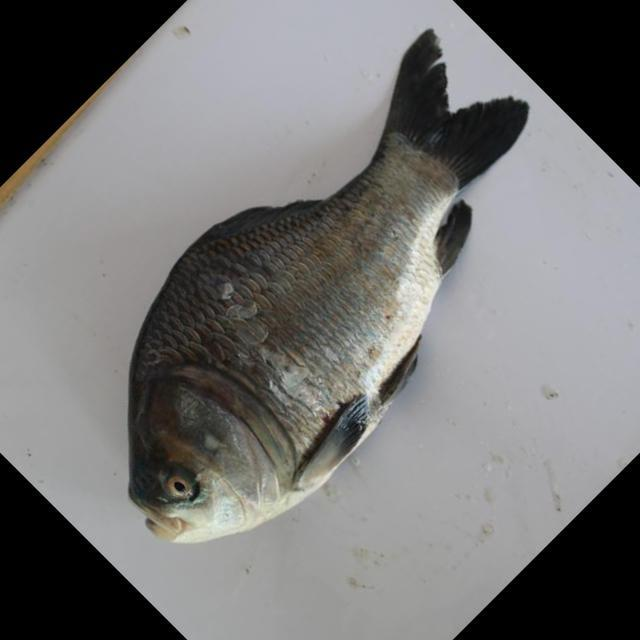Catla: (111, 21, 544, 551)
